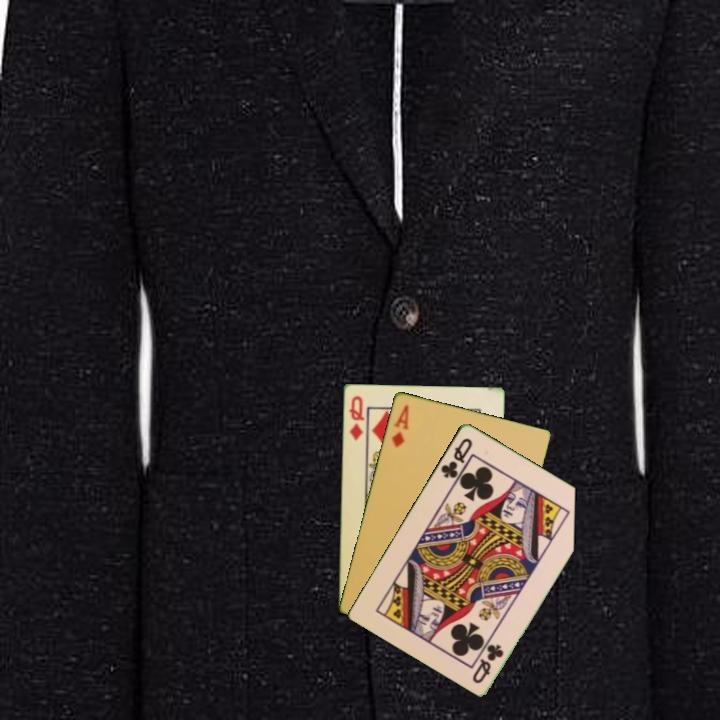Ad: (388, 401, 411, 450)
Qc: (437, 434, 475, 481), (469, 640, 506, 686)
Qd: (345, 392, 367, 443)
